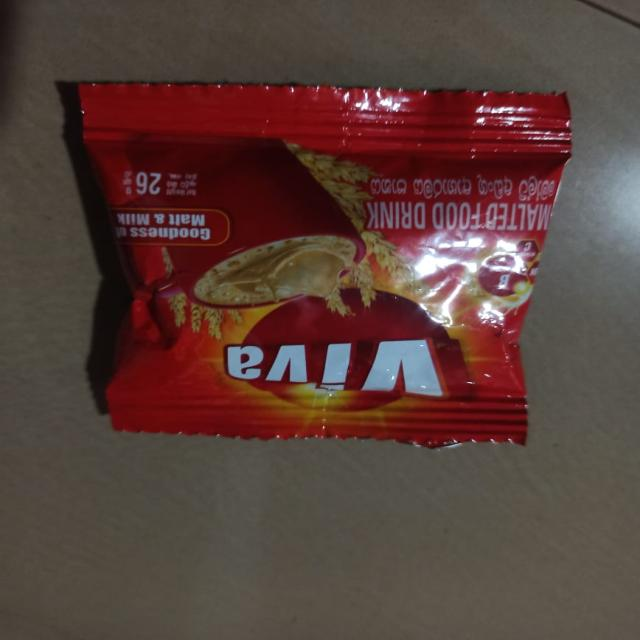Viva Malt: (53, 61, 622, 489)
